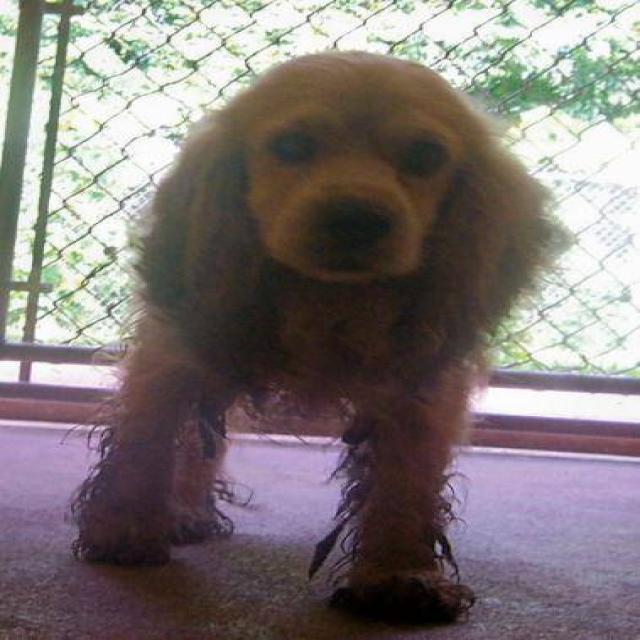dog: (61, 47, 576, 626)
